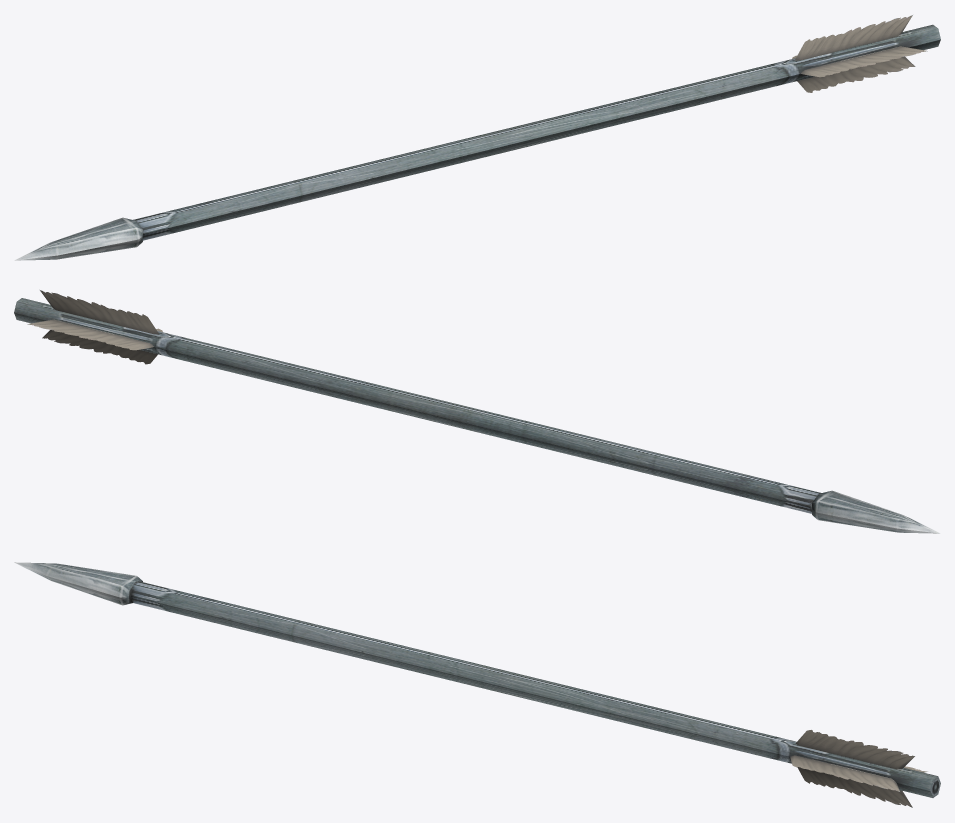
File: arrow.FBX
3 renders of one model, top to bottom at view 1: azimuth 30°, elevation 25°; view 2: azimuth 150°, elevation 25°; view 3: azimuth 330°, elevation 25°, orthographic.
Parts seen in each view (by area): view 1: arrow; view 2: arrow; view 3: arrow.
Part boxes in pixels (x1,y1,x2,y2): arrow: (14,15,940,260); arrow: (14,290,940,533); arrow: (14,562,940,807).
Bounding box in the file's own units: 49.97 × 2.73 × 2.74.
